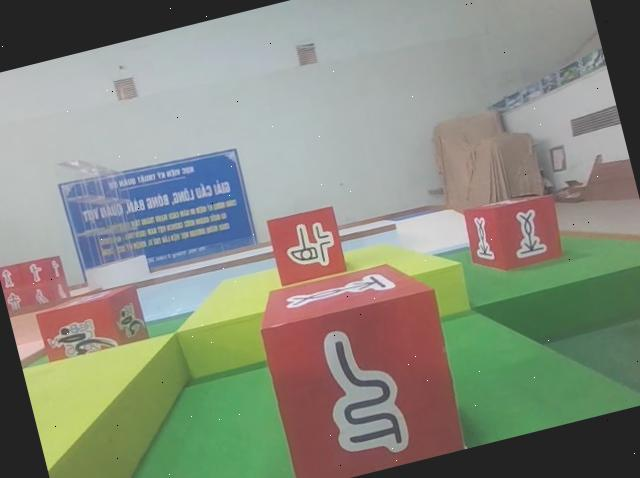R1: (31, 281, 153, 371)
R2 Fake: (252, 253, 477, 478)
R2 Real: (460, 188, 568, 279), (266, 204, 349, 288)
